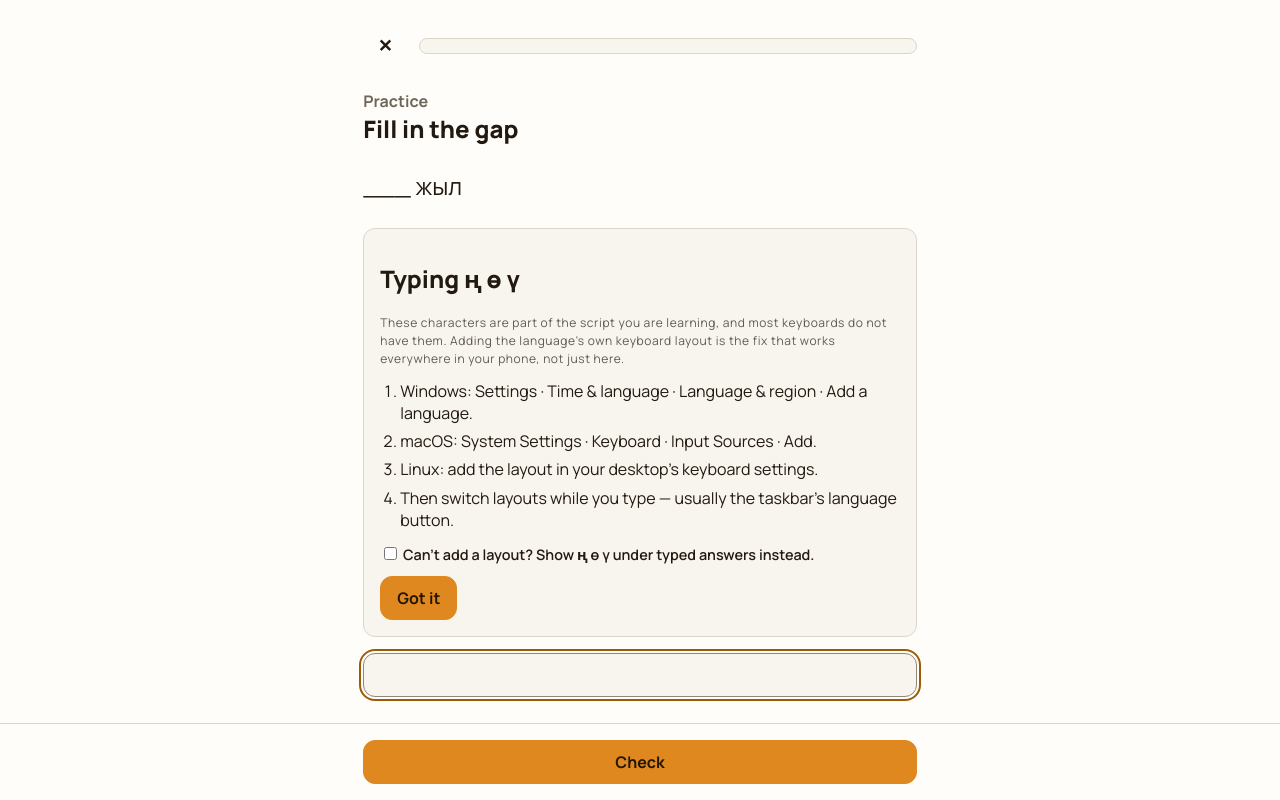
the keyboard setup card › stays dismissed once dismissed
The image size is (1280, 800).
Click the button "Got it".
click(419, 598)  # box [380, 576, 457, 620]
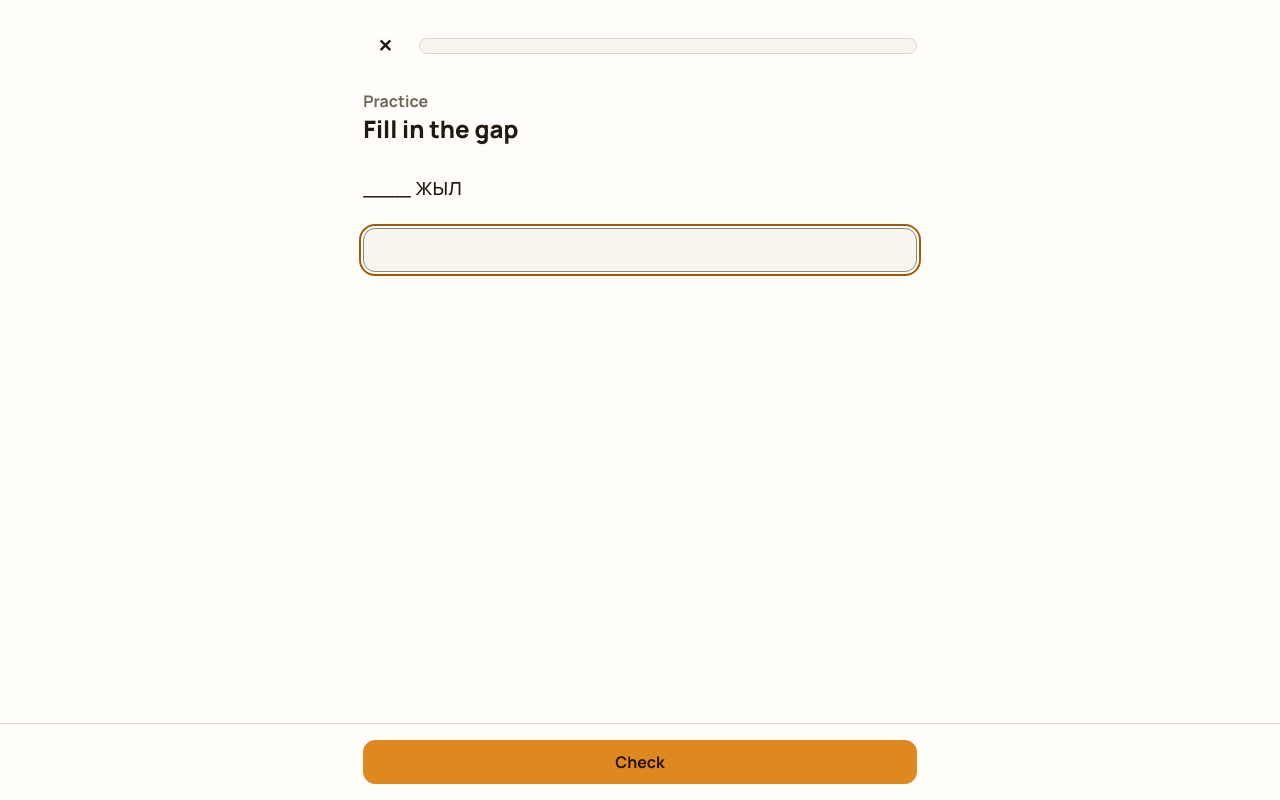
Now the heading "Typing ң ө ү" is gone
